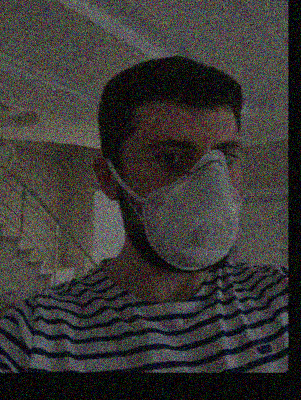with_mask: (139, 123, 243, 272)
